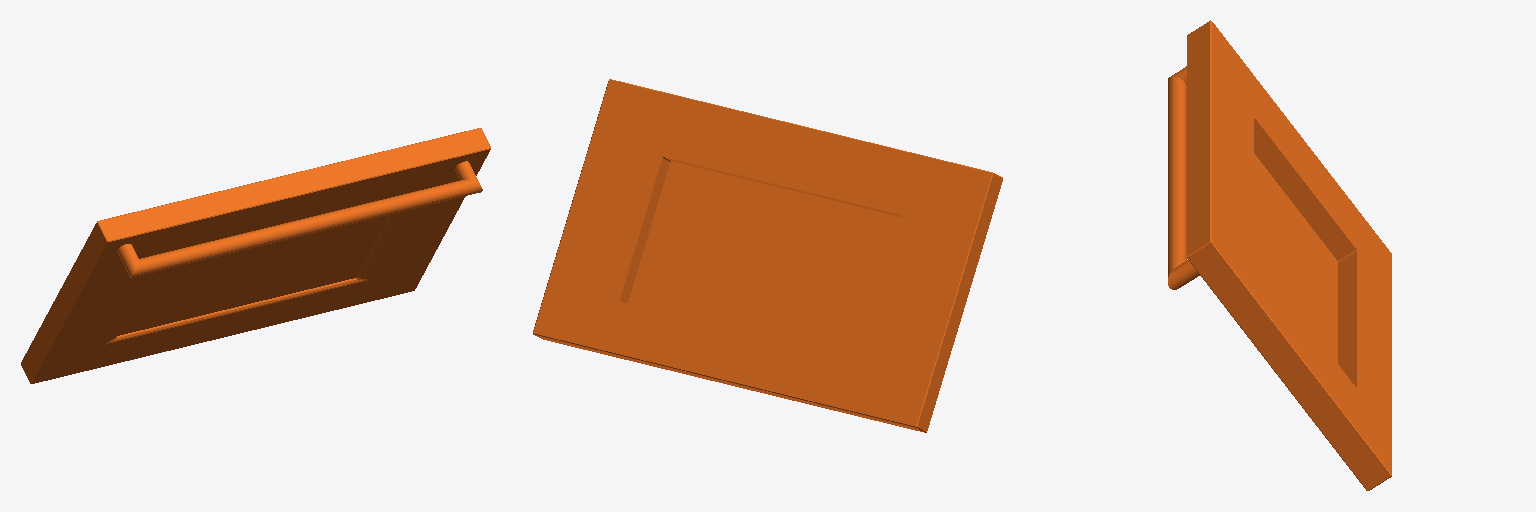
URDF robot description (oven_101917):
<?xml version="1.0"?>
<robot name="oven_101917">
  <!-- Meshes come from the dataset *_rotate exports, which share the joint frame. -->
  <link name="base_link">
    <visual>
      <origin xyz="0 0 0" rpy="0 0 0"/>
      <geometry>
        <mesh filename="meshes/oven_101917_base.obj"/>
      </geometry>
      <material name="steel_grey">
        <color rgba="0.70 0.70 0.72 1.0"/>
      </material>
    </visual>
    <collision>
      <origin xyz="0 0 0" rpy="0 0 0"/>
      <geometry>
        <mesh filename="meshes/oven_101917_base.obj"/>
      </geometry>
    </collision>
    <inertial>
      <origin xyz="0.005314692 -0.186135499 0.458536970" rpy="0 0 0"/>
      <mass value="0.099325969"/>
      <inertia ixx="0.025124698" ixy="0.000000000" ixz="0.000000000" iyy="0.030128815" iyz="0.000000000" izz="0.022260013"/>
    </inertial>
  </link>

  <link name="moving_link">
    <visual>
      <origin xyz="0 0 0" rpy="0 0 0"/>
      <geometry>
        <mesh filename="meshes/oven_101917_moving.obj"/>
      </geometry>
      <material name="handle_orange">
        <color rgba="0.93 0.47 0.16 1.0"/>
      </material>
    </visual>
    <collision>
      <origin xyz="0 0 0" rpy="0 0 0"/>
      <geometry>
        <mesh filename="meshes/oven_101917_moving.obj"/>
      </geometry>
    </collision>
    <inertial>
      <origin xyz="0.639322077 -0.308659247 0.374388738" rpy="0 0 0"/>
      <mass value="0.000674031"/>
      <inertia ixx="0.000042571" ixy="0.000000000" ixz="0.000000000" iyy="0.000118059" iyz="0.000000000" izz="0.000109434"/>
    </inertial>
  </link>

  <joint name="scissor_hinge" type="revolute">
    <origin xyz="-0.638236000 -0.419428015 -0.442321324" rpy="0 0 0"/>
    <parent link="base_link"/>
    <child link="moving_link"/>
    <axis xyz="1.000000000 0.000000000 0.000000000"/>
    <limit lower="0.000000000" upper="0.523598776" effort="5.0" velocity="4.0"/>
    <dynamics damping="0.05" friction="0.02"/>
  </joint>
</robot>

--- Facts derived from the render (not from the file) ---
The picture shows the robot from 3 angles, left to right: view 1: azimuth 30°, elevation 25°; view 2: azimuth 150°, elevation 25°; view 3: azimuth 270°, elevation 25°; orthographic projection.
Model oven_101917 with 2 links and 1 joints (1 revolute), rooted at base_link, posed every joint at zero.
Links seen in each view (by area): view 1: moving_link; view 2: moving_link; view 3: moving_link.
Boxes of the visible links, <box> form: moving_link: <box>21,128,490,383</box>; moving_link: <box>533,79,1002,432</box>; moving_link: <box>1168,20,1391,490</box>.
Bounding box of the posed robot: 1.28 × 0.5497 × 0.6751 m (x, y, z).
1 mesh visuals loaded from 2 distinct referenced files (1 OBJ); not drawn: 1 (reference not matched to a file when rendering).
